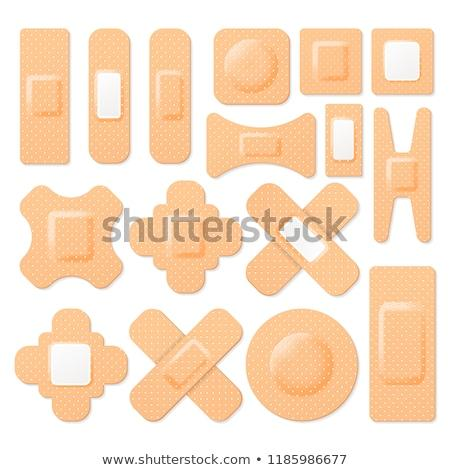bandage: (131, 309, 242, 422), (247, 307, 358, 420), (15, 309, 126, 421), (248, 184, 358, 295), (131, 184, 242, 293), (17, 186, 125, 287), (371, 264, 435, 421), (373, 107, 433, 244), (207, 112, 318, 178), (20, 27, 70, 166), (213, 26, 291, 107), (88, 27, 131, 166), (148, 27, 190, 167), (299, 26, 364, 96), (373, 27, 436, 97), (324, 100, 362, 180)
